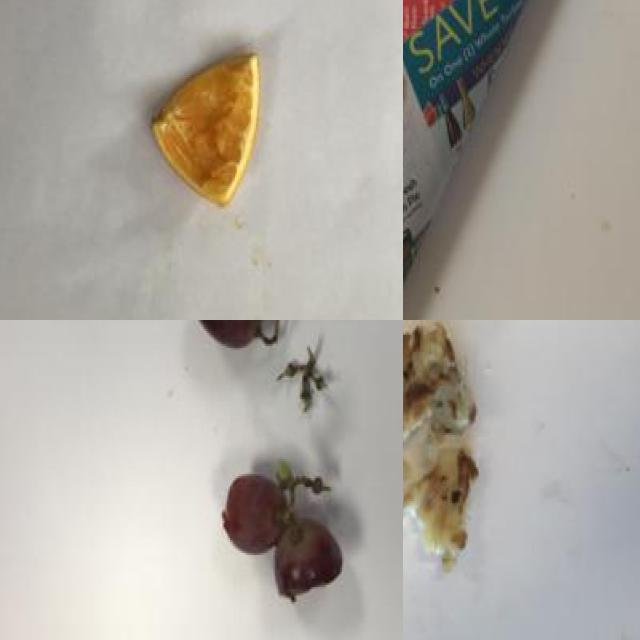compost: (169, 320, 381, 619), (403, 320, 503, 605), (143, 30, 276, 232)
paper: (403, 0, 578, 320)
